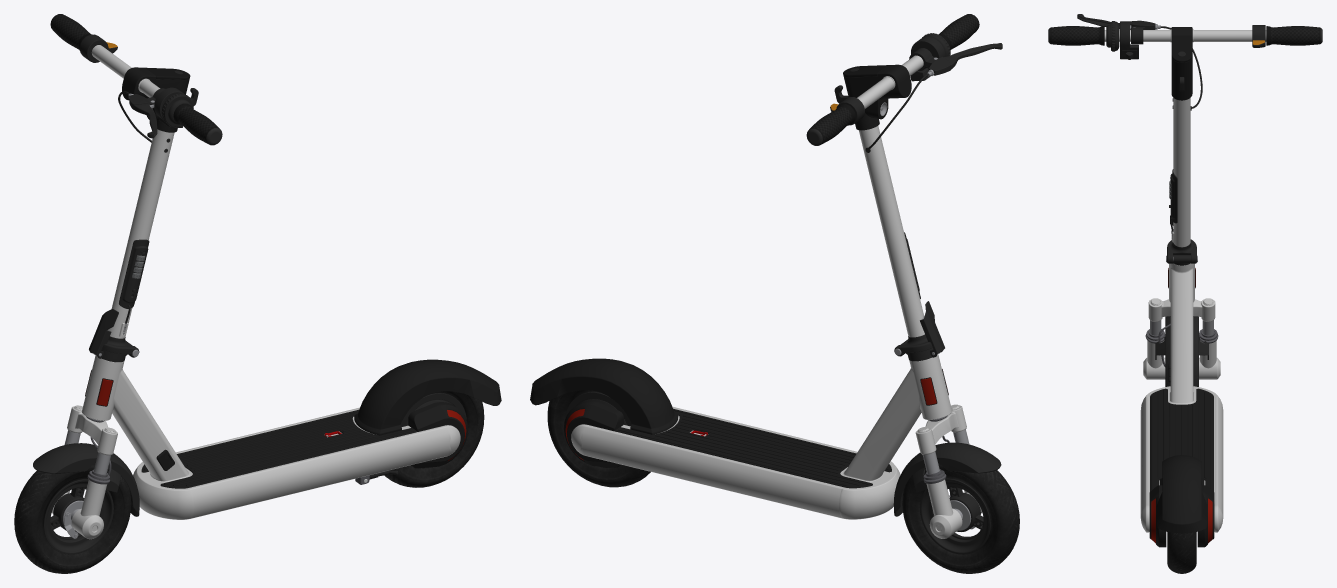
The model's file is scooter.glb.
3 views of the same model, side by side, from view 1: azimuth 30°, elevation 25°; view 2: azimuth 150°, elevation 25°; view 3: azimuth 270°, elevation 25° (orthographic). The views are drawn at different scales.
Visible parts, largest first — view 1: SM_Scooter_03_Base_Scooter_03_02_0, SM_Scooter_03_Handlebar_Scooter_03_01_0, SM_Scooter_03_Wheel_Base_Scooter_03_01_0, SM_Scooter_03_wheel_F_Scooter_03_03_0, SM_Scooter_03_wheel_B_Scooter_03_03_0, SM_Scooter_03_wheel_F_Scooter_03_01_0, SM_Scooter_03_Holder_01_Scooter_03_01_0, SM_Scooter_03_wheel_B_Scooter_03_01_0; view 2: SM_Scooter_03_Base_Scooter_03_02_0, SM_Scooter_03_Handlebar_Scooter_03_01_0, SM_Scooter_03_Wheel_Base_Scooter_03_01_0, SM_Scooter_03_wheel_F_Scooter_03_03_0, SM_Scooter_03_wheel_B_Scooter_03_03_0, SM_Scooter_03_wheel_F_Scooter_03_01_0, SM_Scooter_03_Holder_01_Scooter_03_01_0, SM_Scooter_03_wheel_B_Scooter_03_01_0; view 3: SM_Scooter_03_Base_Scooter_03_02_0, SM_Scooter_03_Handlebar_Scooter_03_01_0, SM_Scooter_03_Wheel_Base_Scooter_03_01_0, SM_Scooter_03_wheel_B_Scooter_03_03_0.
Part boxes in pixels (x1=…): SM_Scooter_03_Base_Scooter_03_02_0: x1=81, y1=355, x2=501, y2=519; SM_Scooter_03_Handlebar_Scooter_03_01_0: x1=50, y1=14, x2=222, y2=357; SM_Scooter_03_Wheel_Base_Scooter_03_01_0: x1=33, y1=340, x2=139, y2=539; SM_Scooter_03_wheel_F_Scooter_03_03_0: x1=14, y1=465, x2=131, y2=573; SM_Scooter_03_wheel_B_Scooter_03_03_0: x1=384, y1=391, x2=484, y2=487; SM_Scooter_03_wheel_F_Scooter_03_01_0: x1=43, y1=479, x2=113, y2=554; SM_Scooter_03_Holder_01_Scooter_03_01_0: x1=89, y1=309, x2=118, y2=358; SM_Scooter_03_wheel_B_Scooter_03_01_0: x1=400, y1=393, x2=466, y2=468; SM_Scooter_03_Base_Scooter_03_02_0: x1=530, y1=354, x2=951, y2=519; SM_Scooter_03_Handlebar_Scooter_03_01_0: x1=806, y1=14, x2=1002, y2=356; SM_Scooter_03_Wheel_Base_Scooter_03_01_0: x1=893, y1=339, x2=1001, y2=538; SM_Scooter_03_wheel_F_Scooter_03_03_0: x1=902, y1=464, x2=1019, y2=573; SM_Scooter_03_wheel_B_Scooter_03_03_0: x1=547, y1=390, x2=650, y2=487; SM_Scooter_03_wheel_F_Scooter_03_01_0: x1=920, y1=478, x2=990, y2=554; SM_Scooter_03_Holder_01_Scooter_03_01_0: x1=920, y1=301, x2=944, y2=357; SM_Scooter_03_wheel_B_Scooter_03_01_0: x1=565, y1=392, x2=631, y2=467; SM_Scooter_03_Base_Scooter_03_02_0: x1=1140, y1=263, x2=1223, y2=547; SM_Scooter_03_Handlebar_Scooter_03_01_0: x1=1048, y1=14, x2=1322, y2=263; SM_Scooter_03_Wheel_Base_Scooter_03_01_0: x1=1143, y1=255, x2=1220, y2=386; SM_Scooter_03_wheel_B_Scooter_03_03_0: x1=1167, y1=532, x2=1196, y2=573.
Size of the model in its own units: 1.09 by 1.06 by 0.6236.
Materials: 3 (3 with a texture image).
